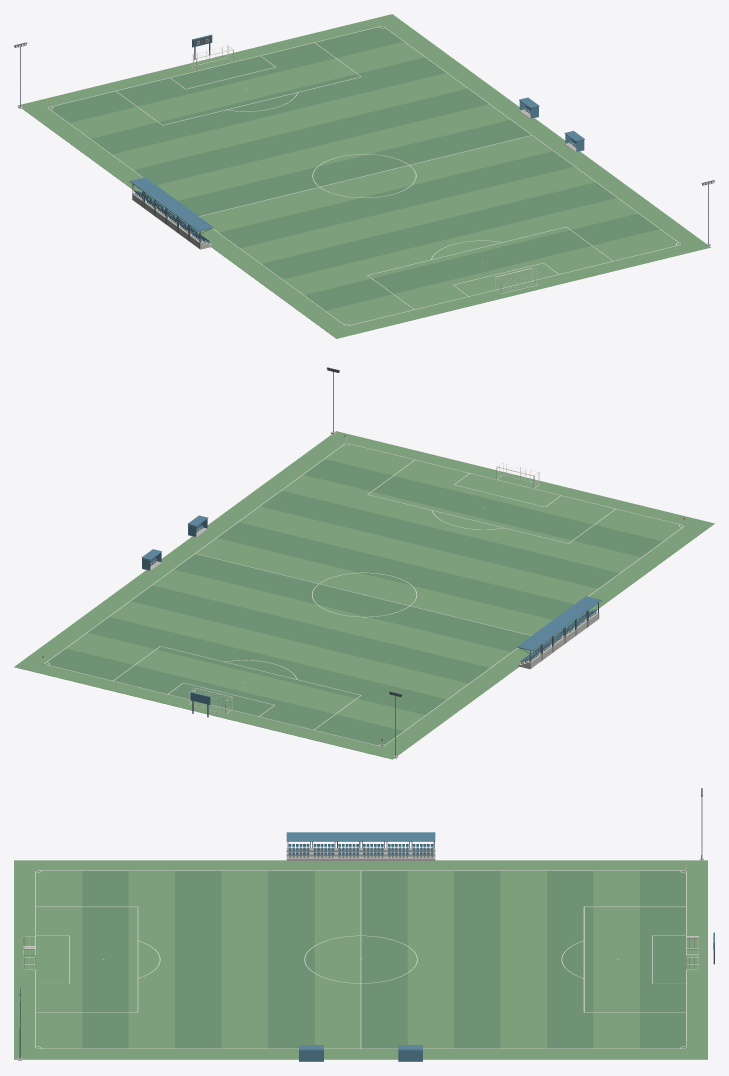
The model's file is assembled-c-a701b13a-starter-scene.glb.
3 views of the same model, one above another, from view 1: azimuth 30°, elevation 25°; view 2: azimuth 150°, elevation 25°; view 3: azimuth 270°, elevation 25° (orthographic). The views are drawn at different scales.
Parts seen in each view (by area): view 1: 000-full-marked-pitch/0, 000-full-marked-pitch/1, 000-full-marked-pitch/2; view 2: 000-full-marked-pitch/0, 000-full-marked-pitch/1, 000-full-marked-pitch/2; view 3: 000-full-marked-pitch/0, 000-full-marked-pitch/1, 000-full-marked-pitch/2.
Part boxes in pixels (x1,y1,x2,y2): 000-full-marked-pitch/0: [18, 14, 710, 338]; 000-full-marked-pitch/1: [48, 26, 659, 310]; 000-full-marked-pitch/2: [48, 26, 681, 326]; 000-full-marked-pitch/0: [14, 431, 714, 759]; 000-full-marked-pitch/1: [45, 459, 662, 746]; 000-full-marked-pitch/2: [44, 443, 684, 746]; 000-full-marked-pitch/0: [14, 860, 707, 1059]; 000-full-marked-pitch/1: [82, 871, 685, 1048]; 000-full-marked-pitch/2: [35, 870, 686, 1048].
Size of the model in its own units: 80 by 12.35 by 113.
